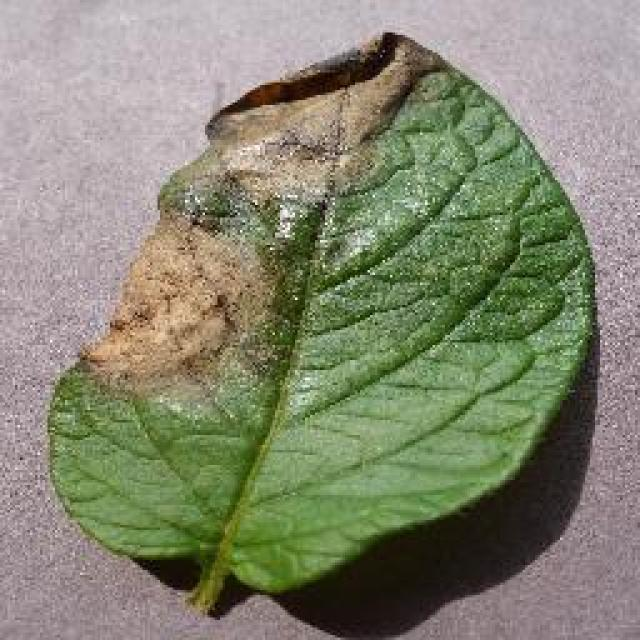late_blight: (40, 25, 600, 615)
